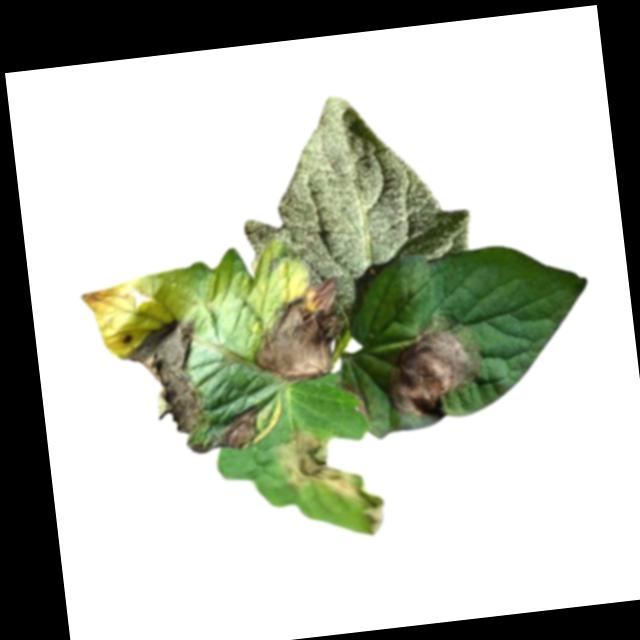Late_blight: (272, 416, 389, 546), (373, 310, 485, 421), (114, 313, 207, 440), (240, 277, 344, 385), (185, 402, 262, 457), (340, 376, 369, 420)
healthy: (228, 83, 480, 330)
